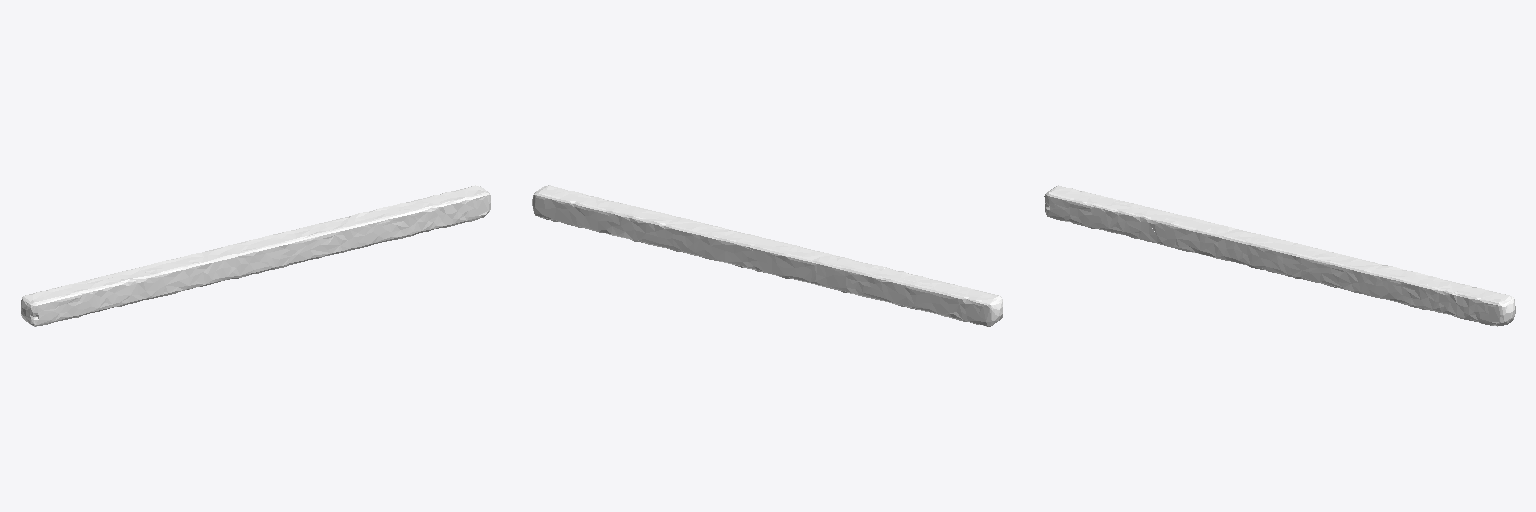
The robot description file, URDF, robot "atb1_bar-4mm":
<?xml version="0.0" ?>
<robot name="atb1_bar-4mm">
  <link name="baseLink">
    <contact>
      <friction_anchor/>
      <lateral_friction value="0.8"/>
      <spinning_friction value="0.001"/>
      <rolling_friction value="0.001"/>
      <contact_cfm value="0.0"/>
      <contact_erp value="0.2"/>
    </contact>
    <inertial>
       <origin rpy="0 0 0" xyz="0 0 0"/>
       <mass value="0.01"/>
       <inertia ixx="1e-3" ixy="0" ixz="0" iyy="1e-3" iyz="0" izz="1e-3"/>
    </inertial>
    <visual>
      <origin rpy="0 0 0" xyz="0 0 0"/>
      <geometry>
        <mesh filename="obj/fused_model.obj" scale="1 1 1"/>
      </geometry>
      <material name="white">
        <color rgba="1. 1. 1. 1."/>
      </material>
    </visual>
    <collision>
      <origin rpy="0 0 0" xyz="0 0 0"/>
      <geometry>
        <mesh filename="obj/fused_model.obj" scale="1 1 1"/>
      </geometry>
    </collision>
  </link>
</robot>

--- What the picture shows (computed from the rendered views, not written in the file) ---
3 views of the same robot in one strip: view 1: azimuth 30°, elevation 25°; view 2: azimuth 150°, elevation 25°; view 3: azimuth 330°, elevation 25° (orthographic).
Robot: atb1_bar-4mm — 1 links, 0 joints (none); root link baseLink; default pose: all joints at 0.
Visible links, largest first — view 1: baseLink; view 2: baseLink; view 3: baseLink.
Link boxes in pixels (x1,y1,x2,y2): baseLink: [21, 185, 490, 326]; baseLink: [532, 185, 1002, 326]; baseLink: [1044, 185, 1515, 326].
Bounding box of the posed robot: 0.0536 × 0.0027 × 0.0028 m (x, y, z).
1 mesh visuals loaded from 1 distinct referenced files (1 OBJ).
